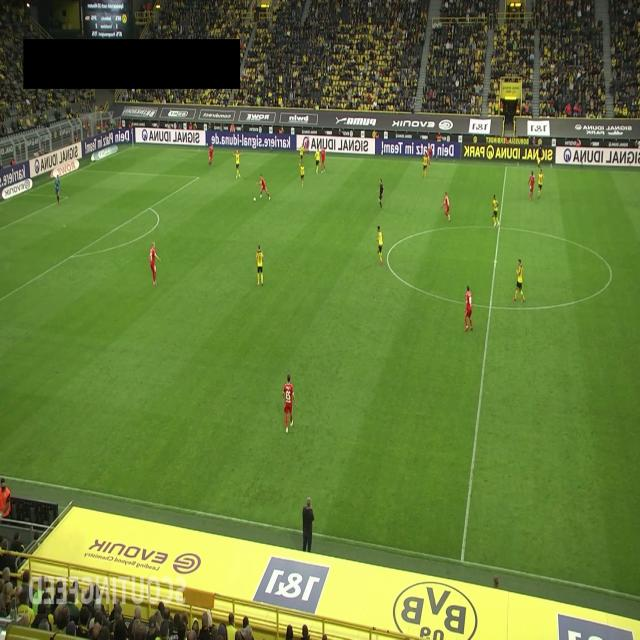ball: (253, 196, 257, 203)
goalkeeper: (54, 174, 60, 205)
player: (282, 373, 297, 434), (512, 258, 526, 302), (149, 242, 161, 286), (464, 284, 473, 332), (256, 173, 271, 200), (255, 245, 264, 286), (439, 191, 451, 220), (232, 147, 242, 179), (376, 225, 383, 264), (528, 171, 536, 200), (492, 194, 499, 227), (538, 168, 544, 199), (422, 150, 428, 178), (320, 146, 326, 173), (303, 135, 310, 158), (208, 142, 214, 168), (300, 160, 305, 188), (315, 146, 320, 174), (427, 145, 432, 168), (300, 145, 304, 165)
referee: (378, 178, 384, 208), (536, 139, 542, 169)
